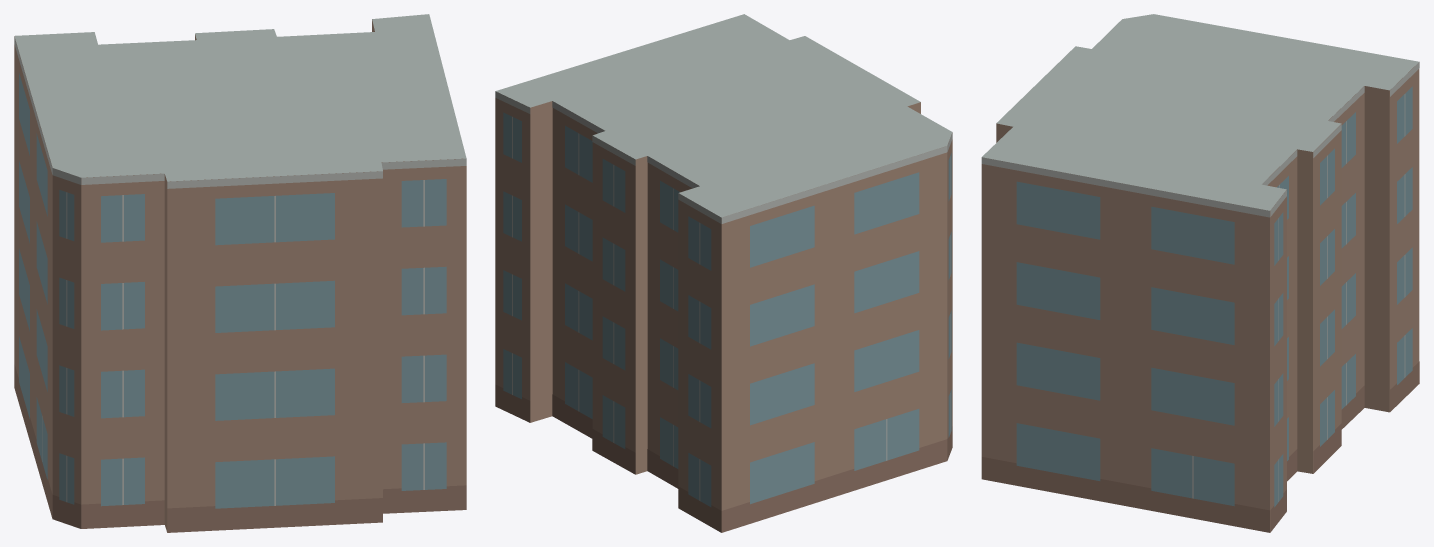
File: survey-upis-32527276.glb
The picture shows the model from 3 angles, left to right: view 1: azimuth 30°, elevation 25°; view 2: azimuth 150°, elevation 25°; view 3: azimuth 270°, elevation 25°; orthographic projection. The views are drawn at different scales.
Visible parts, largest first — view 1: survey-upis-32527276.tmp; view 2: survey-upis-32527276.tmp; view 3: survey-upis-32527276.tmp.
Boxes of the visible parts, box(x1,y1,x2,y2) form: survey-upis-32527276.tmp: box(14, 14, 466, 532); survey-upis-32527276.tmp: box(495, 14, 952, 532); survey-upis-32527276.tmp: box(981, 14, 1419, 532).
Bounding box in the file's own units: 15.35 × 11.7 × 14.43.
